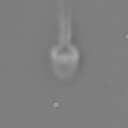abnormal: (52, 1, 79, 43)
